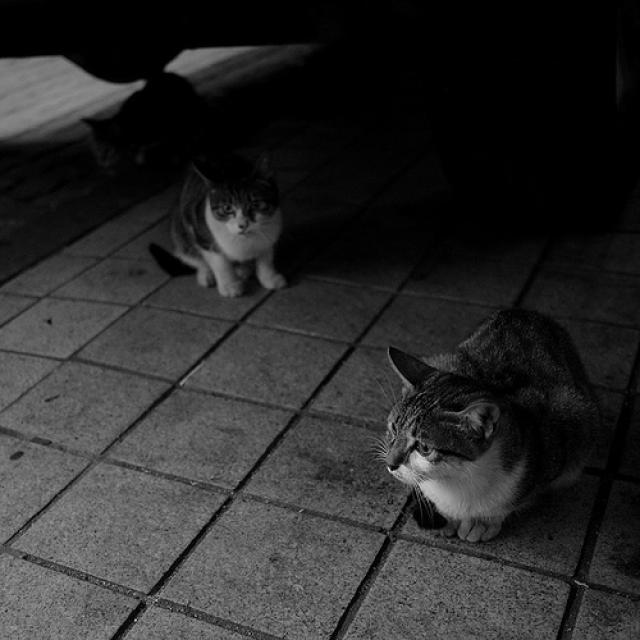Cat: (378, 300, 612, 584), (141, 126, 303, 327), (69, 58, 218, 193)
